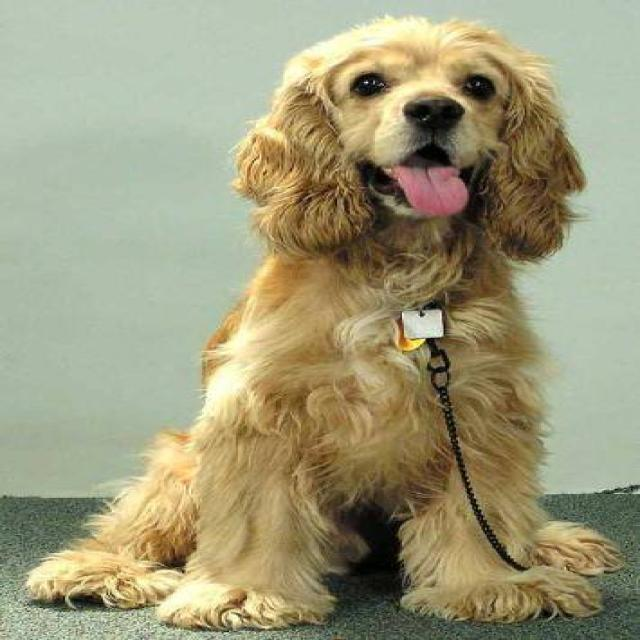adult_dog: (25, 6, 628, 631)
